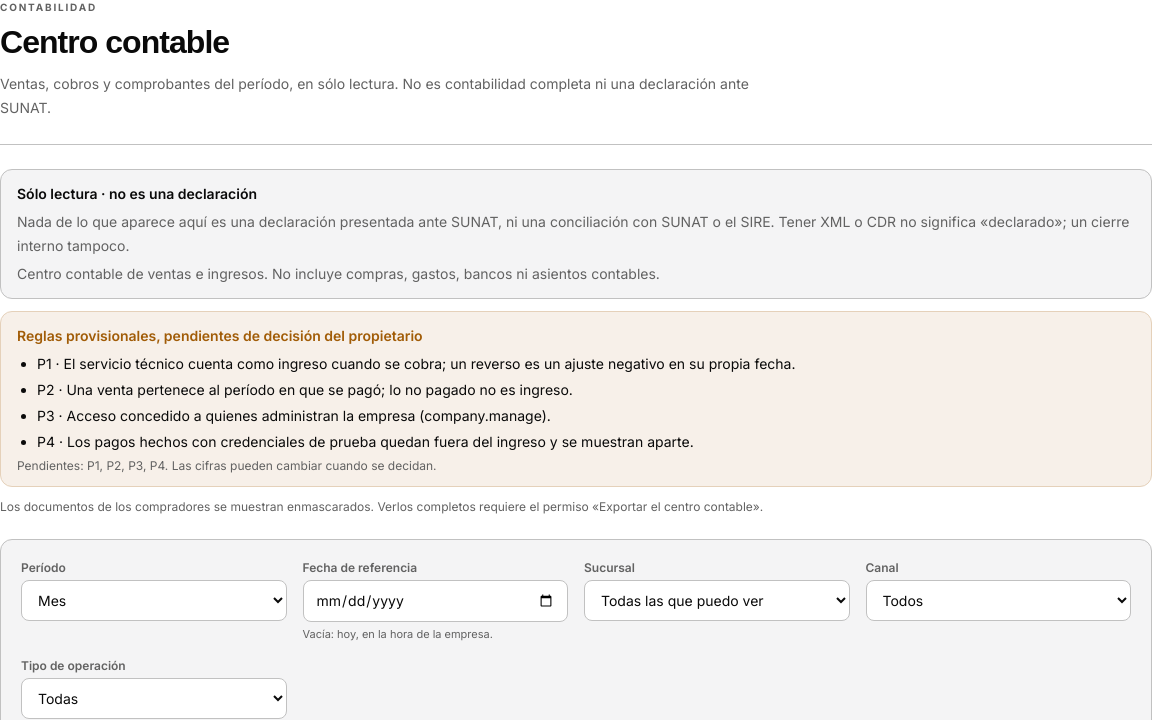
Test: filters › refuses an inverted range without asking the server
This screenshot has width=1152, height=720.
Select "Rango personalizado" in the dropdown labelled "Período". click: (154, 600)
box: [21, 580, 286, 621]
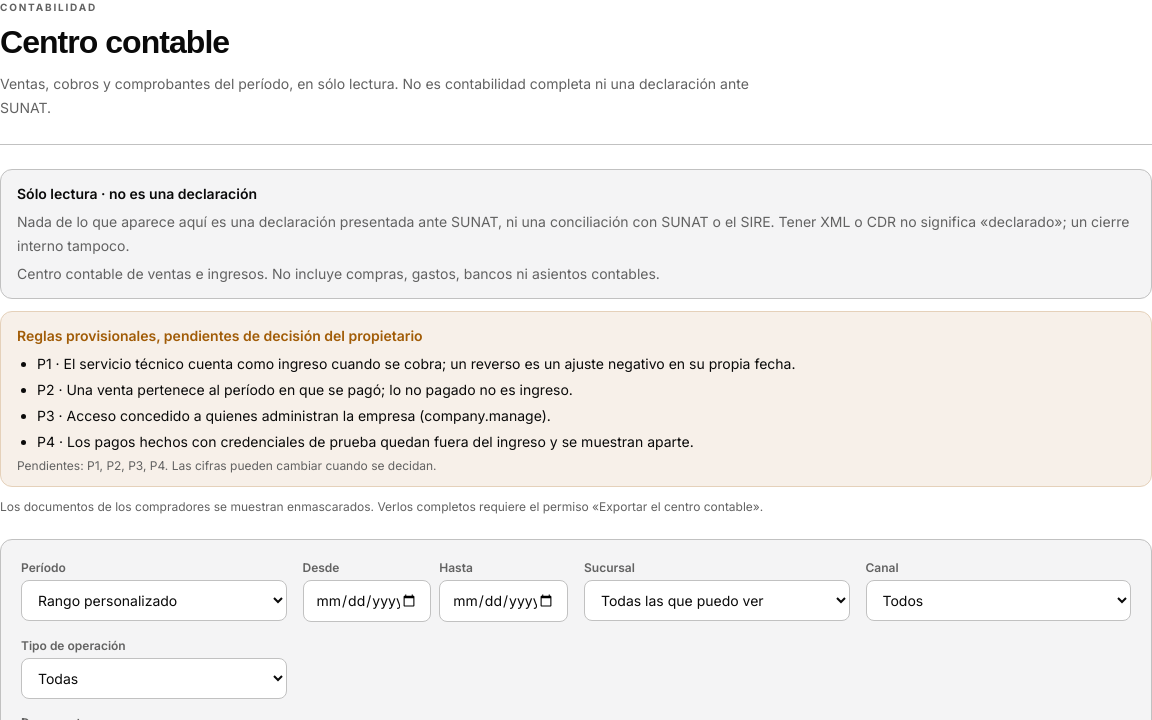
Type "2026-10-02" into the date field labelled "Desde". click: (367, 601)
box: [302, 580, 431, 622]
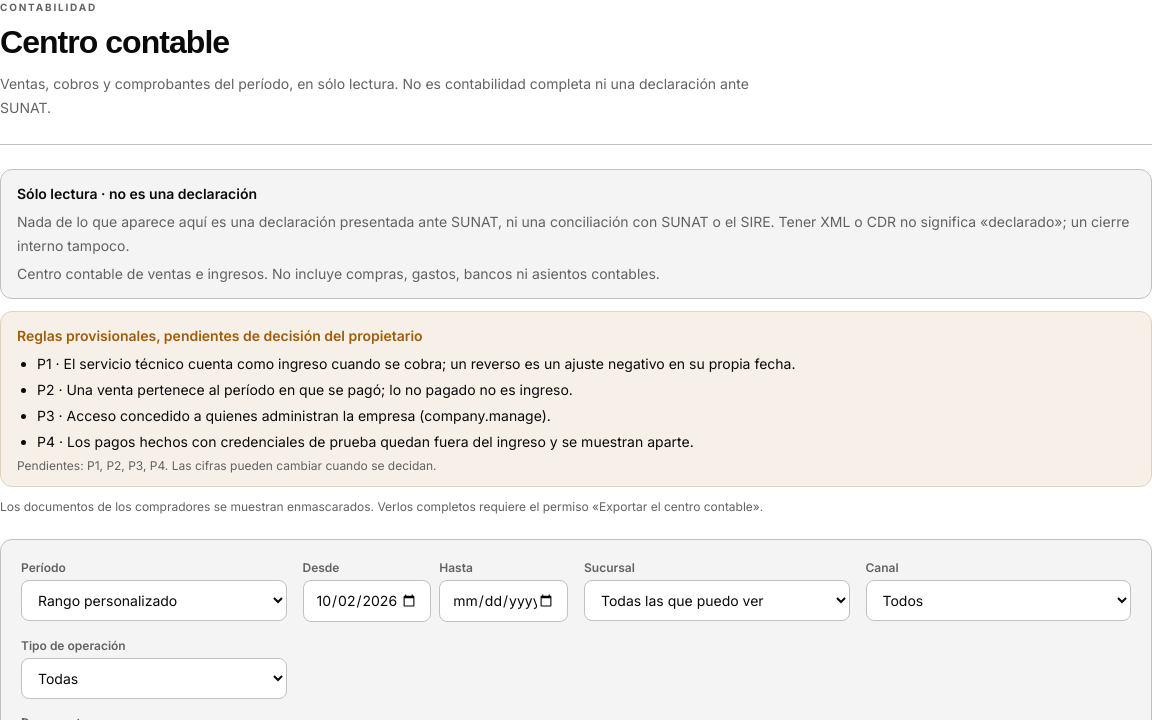
Type "2026-10-01" into the date field labelled "Hasta". click: (504, 601)
box: [439, 580, 568, 622]
(page scrolled)
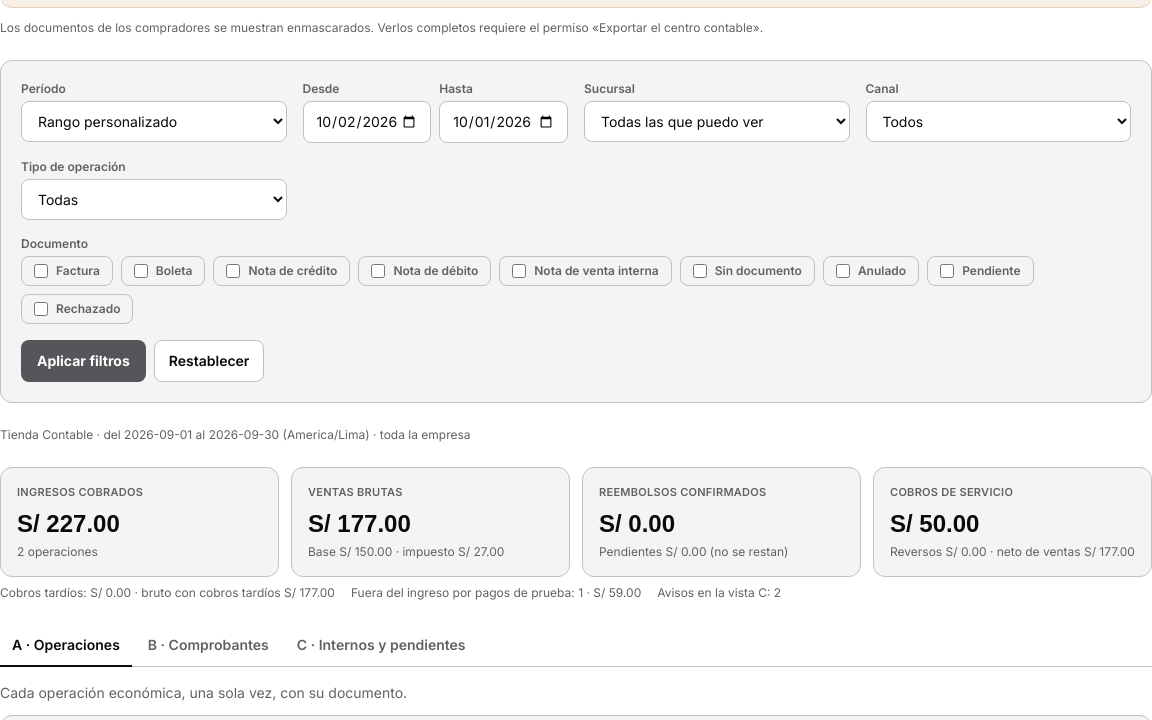
Click the button "Aplicar filtros". click: (83, 361)
box: [21, 340, 146, 382]
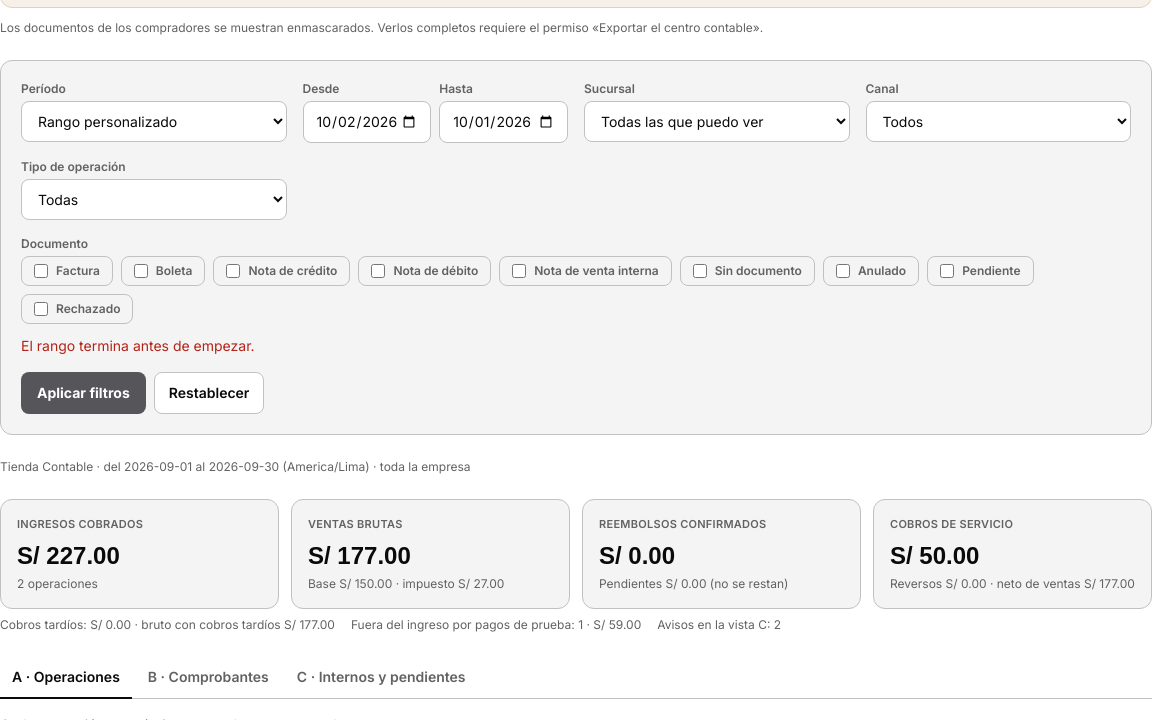
expect the message reads "El rango termina antes de empezar.": met, box [21, 337, 255, 354]
